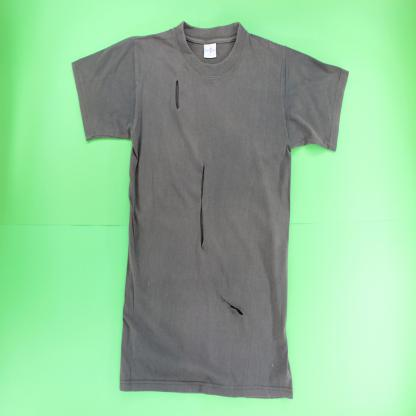hole: (198, 161, 206, 252), (218, 294, 245, 319), (174, 77, 181, 112)
